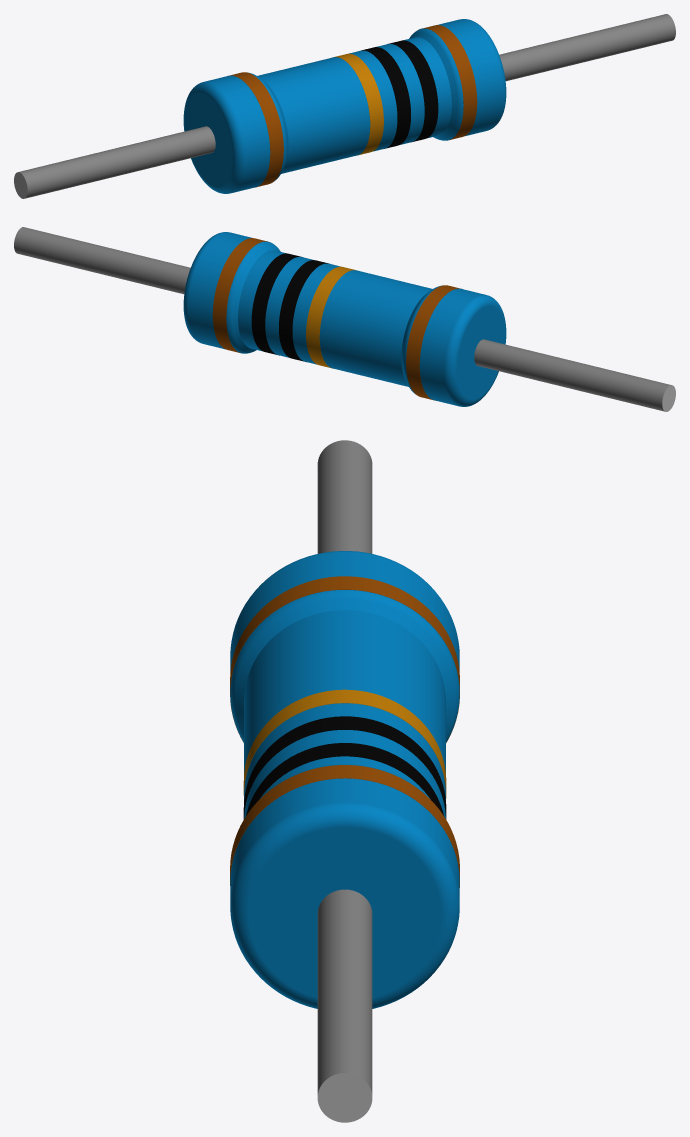
File: RESTHT_SHORT.obj
3 views of the same model, one above another, from view 1: azimuth 30°, elevation 25°; view 2: azimuth 150°, elevation 25°; view 3: azimuth 270°, elevation 25° (orthographic). The views are drawn at different scales.
Parts seen in each view (by area): view 1: Solid1; view 2: Solid1; view 3: Solid1.
Boxes of the visible parts, x1,y1,x2,y2 form: Solid1: (14,14,675,198); Solid1: (14,227,675,411); Solid1: (230,440,459,1122).
Size of the model in its own units: 15 by 2.3 by 2.3.
